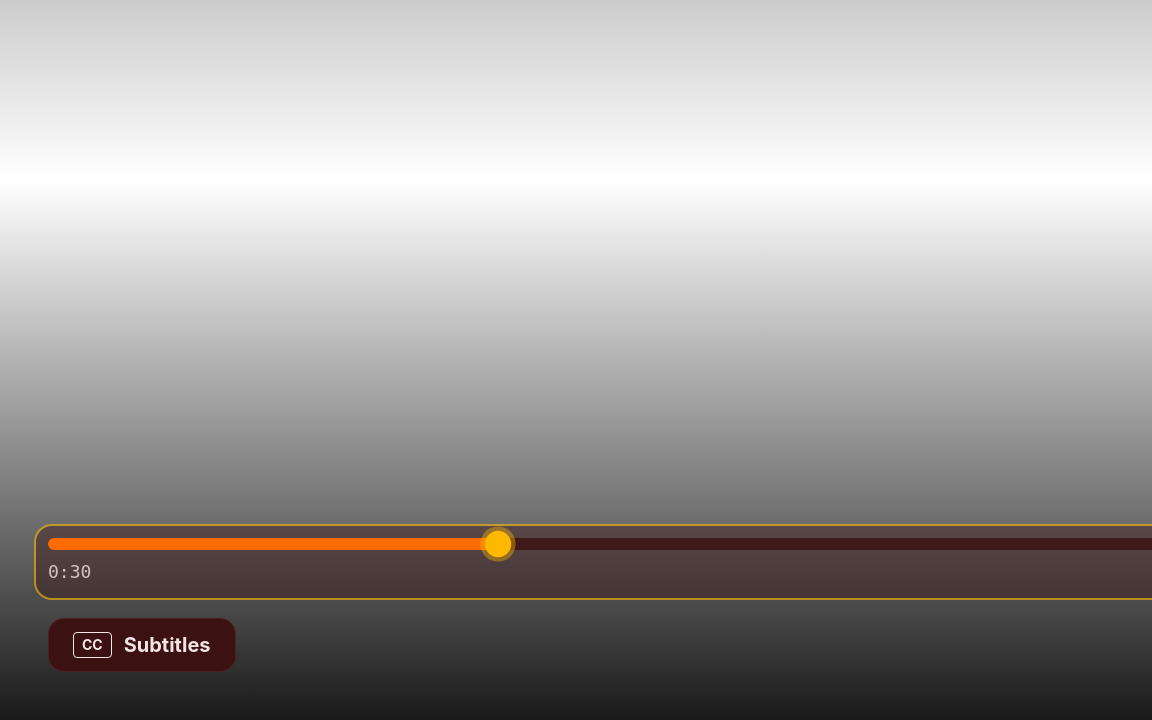
it: PlayerScreen Seeking & Fast Forward › does not trigger seeking or display seek HUD badge when SubtitleModal is open
Later steps or results of the test are not shown.
(page scrolled)
# Open SubtitleModal
Click the button with test id "subtitles-button" at x=142, y=645, box [48,618,236,672]
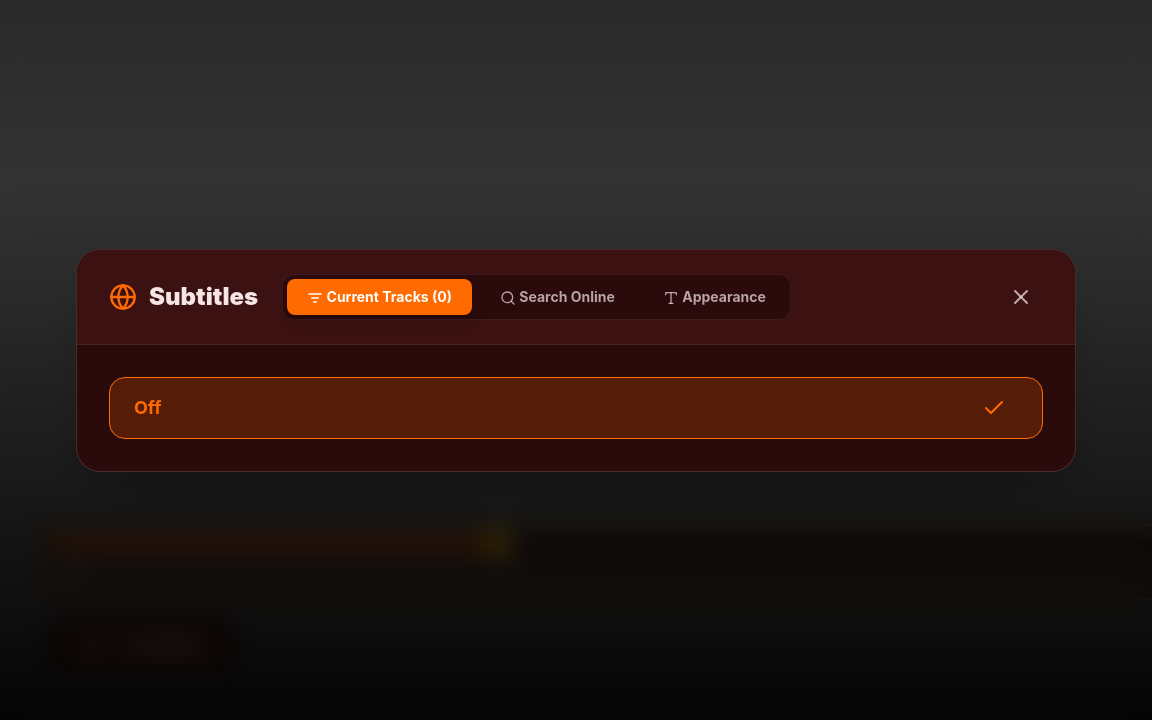
Check: the dialog "Subtitles" is shown
